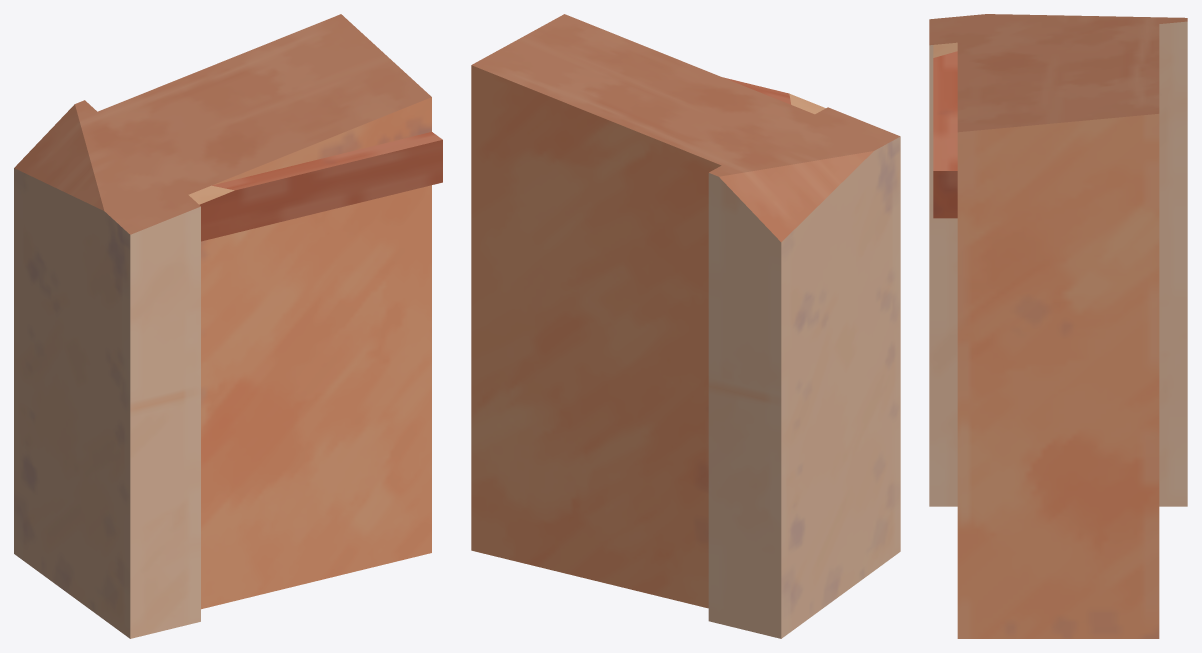
The model's file is wall2_upper_door_s02.fbx.
3 renders of one model, left to right at view 1: azimuth 30°, elevation 25°; view 2: azimuth 150°, elevation 25°; view 3: azimuth 270°, elevation 25°, orthographic. The views are drawn at different scales.
Visible parts, largest first — view 1: wall2_upper_door_s02; view 2: wall2_upper_door_s02; view 3: wall2_upper_door_s02.
Part boxes in pixels (box(x1,y1,x2,y2)): wall2_upper_door_s02: box(14, 14, 442, 638); wall2_upper_door_s02: box(471, 14, 900, 638); wall2_upper_door_s02: box(929, 14, 1187, 638).
Bounding box in the file's own units: 2 × 2.87 × 1.28.
